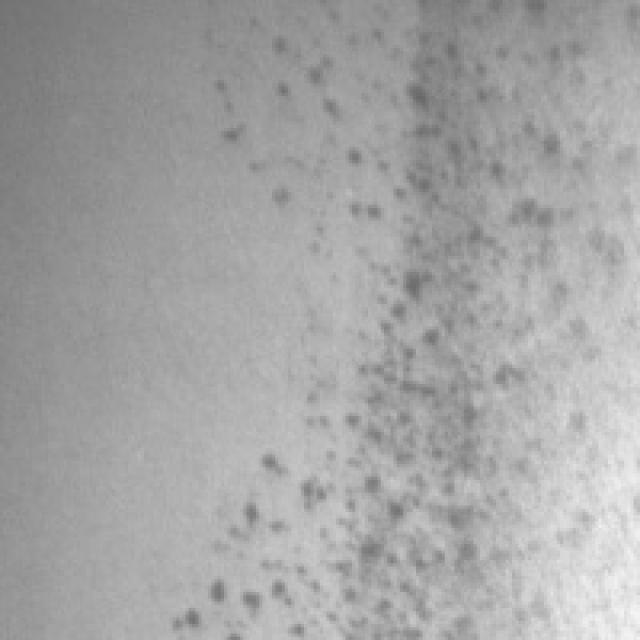pitted_surface: (176, 0, 589, 630)
